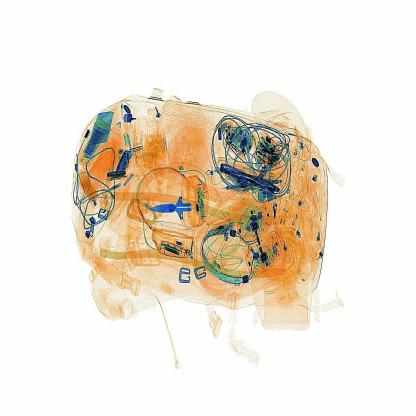gun: (153, 175, 216, 238)
